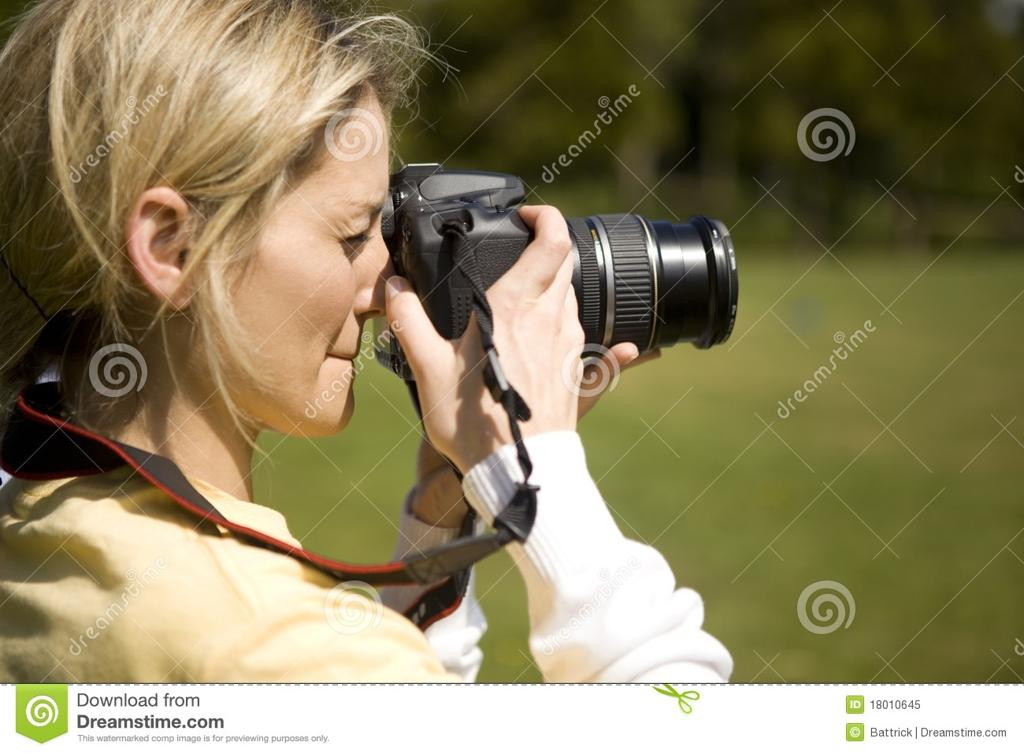face: (204, 72, 400, 432)
